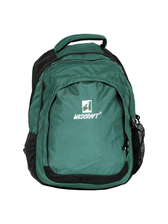bag: (21, 34, 148, 192)
